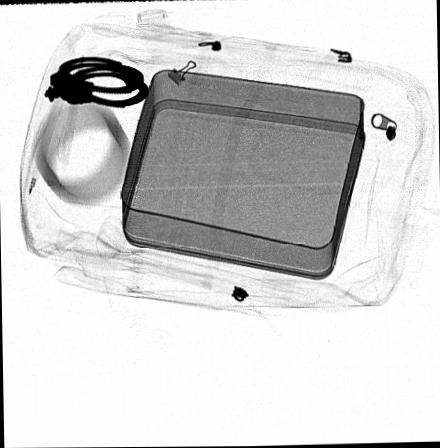HandCuffs: (45, 57, 148, 106)
